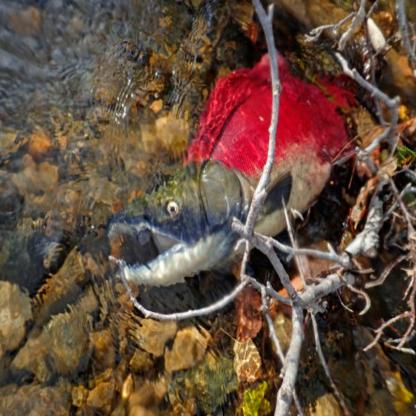sockeye: (117, 66, 363, 289)
